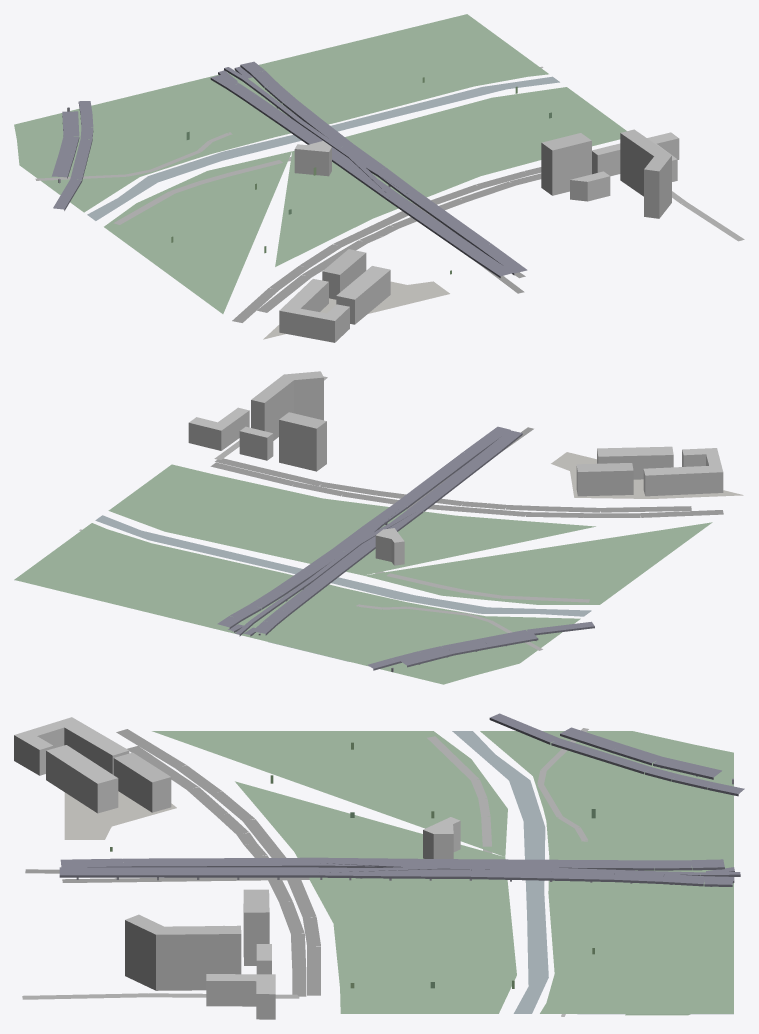
3 views of the same model, one above another, from view 1: azimuth 30°, elevation 25°; view 2: azimuth 150°, elevation 25°; view 3: azimuth 270°, elevation 25° (orthographic). The views are drawn at different scales.
Bounding box in the file's own units: 533 × 48.46 × 546.
